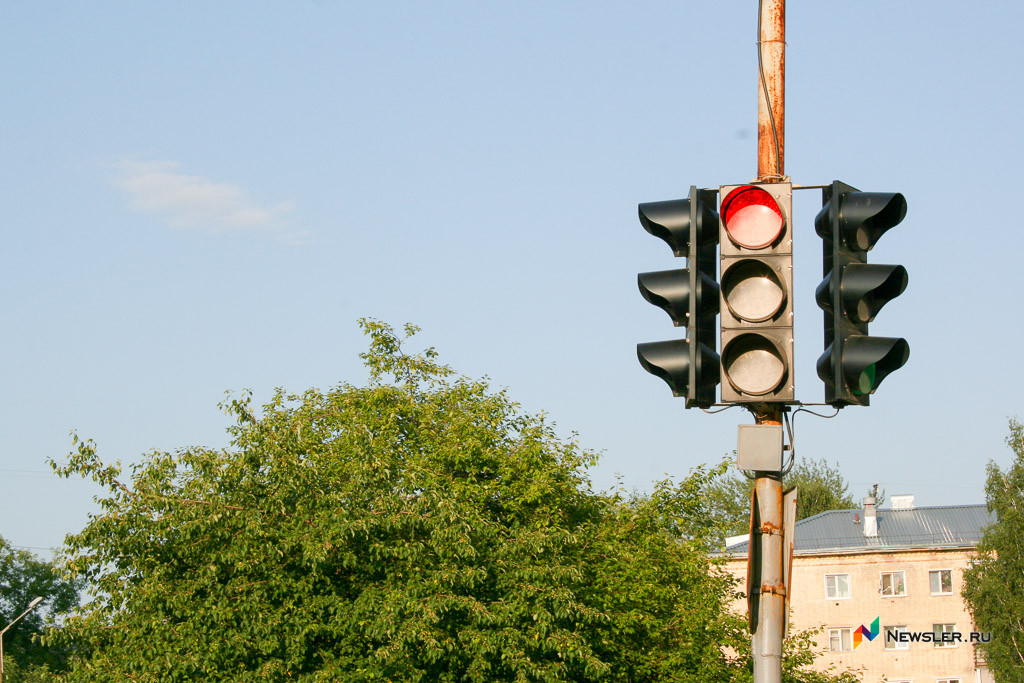tl: (818, 180, 913, 411), (633, 191, 722, 412), (714, 182, 796, 407)
